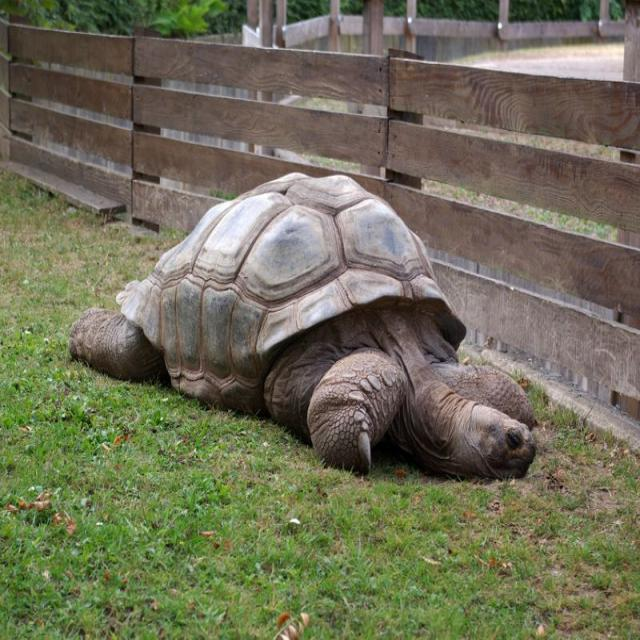Turtle: (72, 177, 553, 497)
